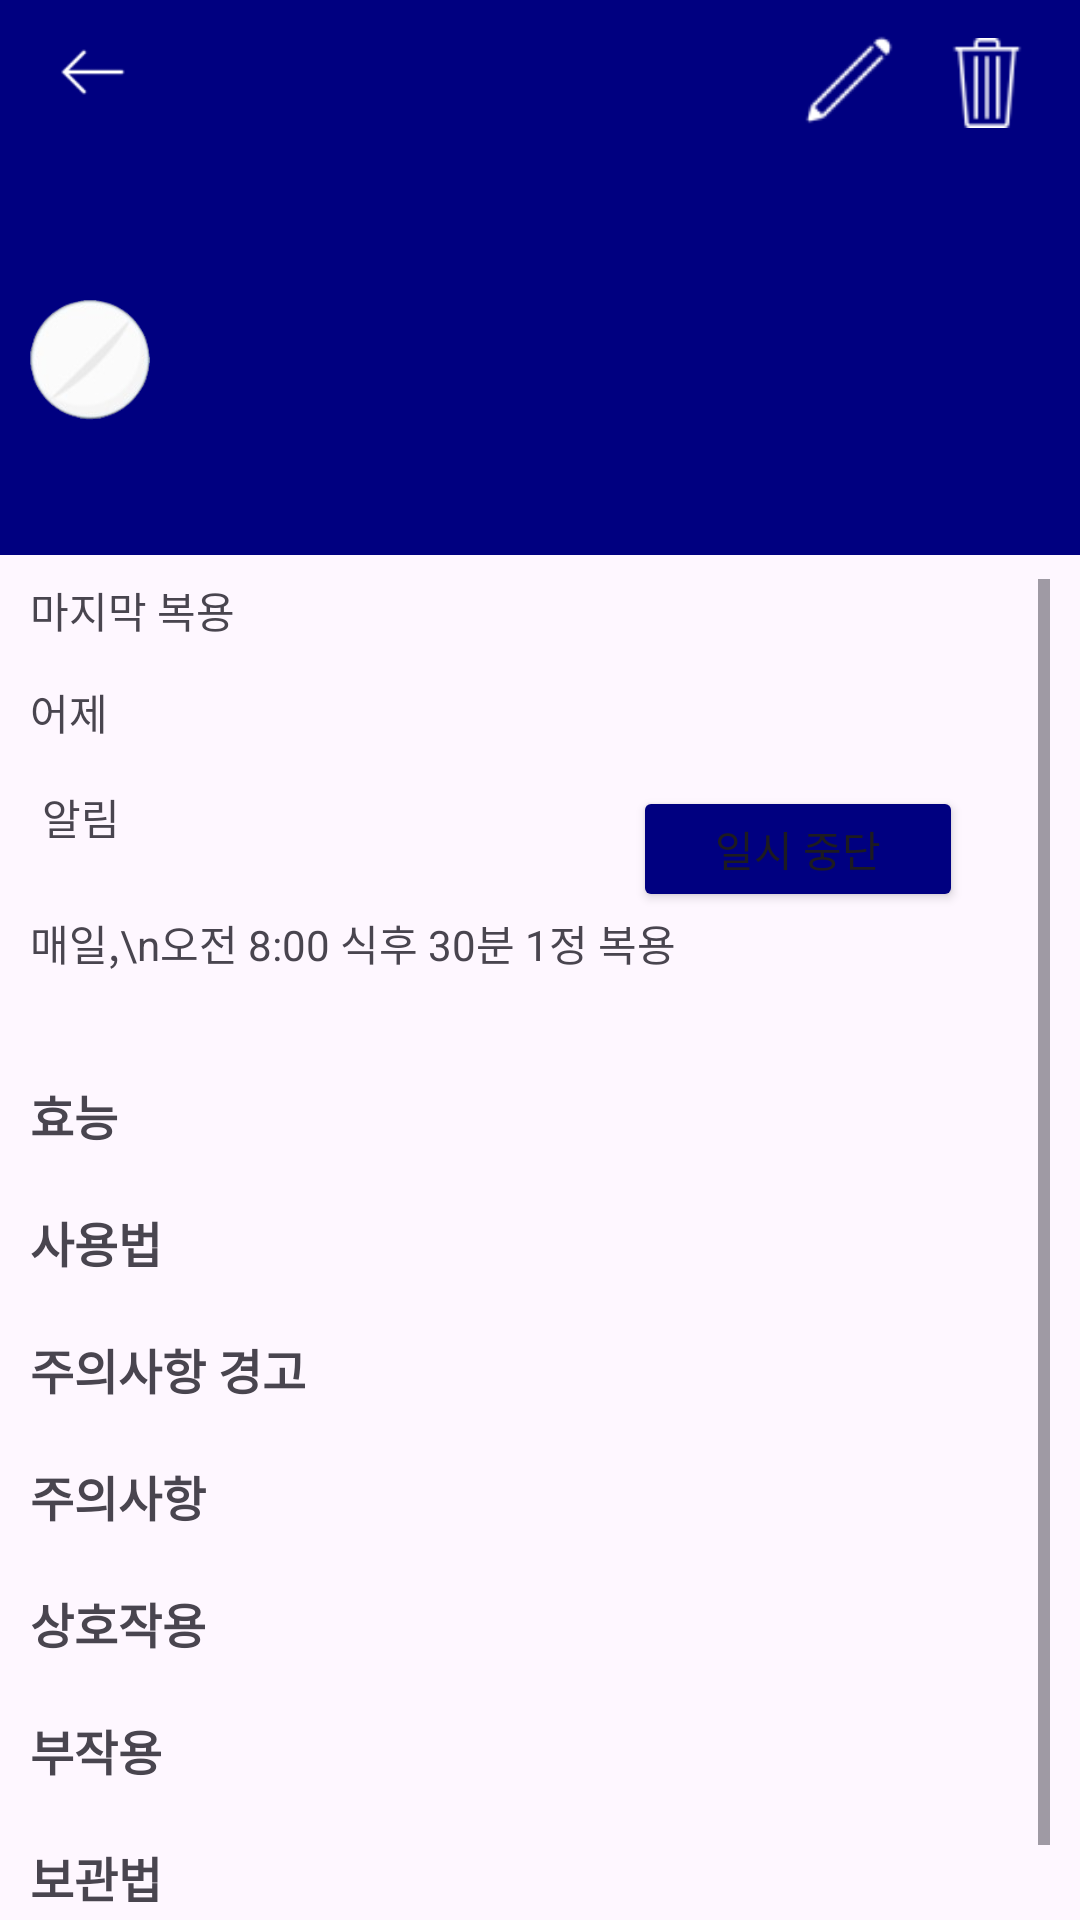

Icons on this 1080 × 1920 Android screen, each with the point to tap as [x,y]:
back: [93,72]
edit: [849,80]
pill: [90,359]
trash: [987,83]
